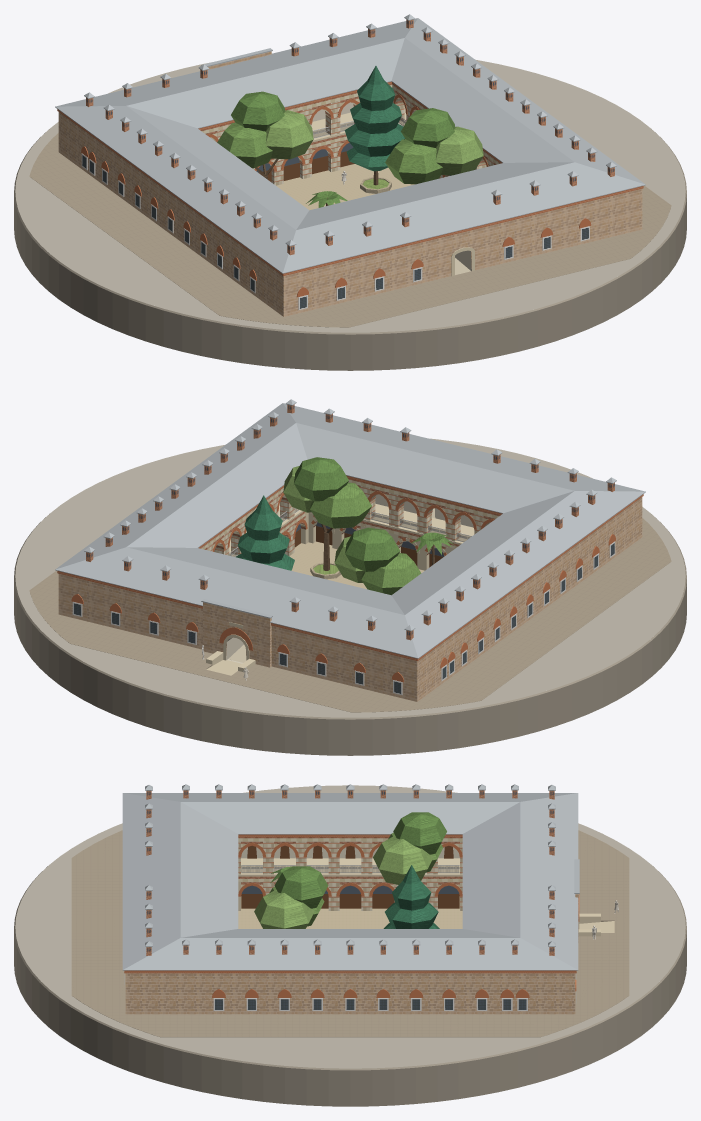
The model's file is emir-hani_v08_sunum.glb.
3 views of the same model, one above another, from view 1: azimuth 30°, elevation 25°; view 2: azimuth 150°, elevation 25°; view 3: azimuth 270°, elevation 25° (orthographic).
Visible parts, largest first — view 1: Emir_Hani, Zemin_Kaide, Zemin_Sokak, Avlu_Revaklari, Cevre_Agac_02, Cevre_Agac_01, Cevre_Agac_03, Han_Avlu, Girisler; view 2: Emir_Hani, Zemin_Kaide, Zemin_Sokak, Avlu_Revaklari, Cevre_Agac_02, Girisler, Cevre_Agac_01, Cevre_Agac_03, Han_Avlu; view 3: Emir_Hani, Zemin_Kaide, Zemin_Sokak, Avlu_Revaklari, Cevre_Agac_01, Cevre_Agac_02, Han_Avlu, Cevre_Agac_03, Girisler.
Boxes of the visible parts, bbox=[...] form: Emir_Hani: bbox=[55, 14, 645, 316]; Zemin_Kaide: bbox=[14, 59, 686, 370]; Zemin_Sokak: bbox=[29, 133, 671, 327]; Avlu_Revaklari: bbox=[198, 81, 502, 185]; Cevre_Agac_02: bbox=[385, 108, 483, 184]; Cevre_Agac_01: bbox=[217, 91, 313, 179]; Cevre_Agac_03: bbox=[344, 66, 404, 193]; Han_Avlu: bbox=[276, 164, 414, 210]; Girisler: bbox=[201, 48, 474, 276]; Emir_Hani: bbox=[55, 399, 645, 701]; Zemin_Kaide: bbox=[14, 438, 686, 755]; Zemin_Sokak: bbox=[29, 518, 671, 712]; Avlu_Revaklari: bbox=[198, 475, 502, 570]; Cevre_Agac_02: bbox=[283, 457, 371, 579]; Girisler: bbox=[201, 599, 272, 675]; Cevre_Agac_01: bbox=[334, 527, 421, 595]; Cevre_Agac_03: bbox=[236, 495, 294, 570]; Han_Avlu: bbox=[289, 541, 424, 589]; Emir_Hani: bbox=[122, 784, 578, 1014]; Zemin_Kaide: bbox=[14, 785, 686, 1106]; Zemin_Sokak: bbox=[71, 830, 629, 1037]; Avlu_Revaklari: bbox=[238, 834, 462, 910]; Cevre_Agac_01: bbox=[373, 812, 446, 884]; Cevre_Agac_02: bbox=[254, 866, 328, 928]; Han_Avlu: bbox=[238, 896, 462, 928]; Cevre_Agac_03: bbox=[383, 865, 439, 928]; Girisler: bbox=[574, 859, 614, 942].
Bounding box in the file's own units: 74.78 × 15.61 × 74.78.
Materials: 25 (10 with a texture image).
